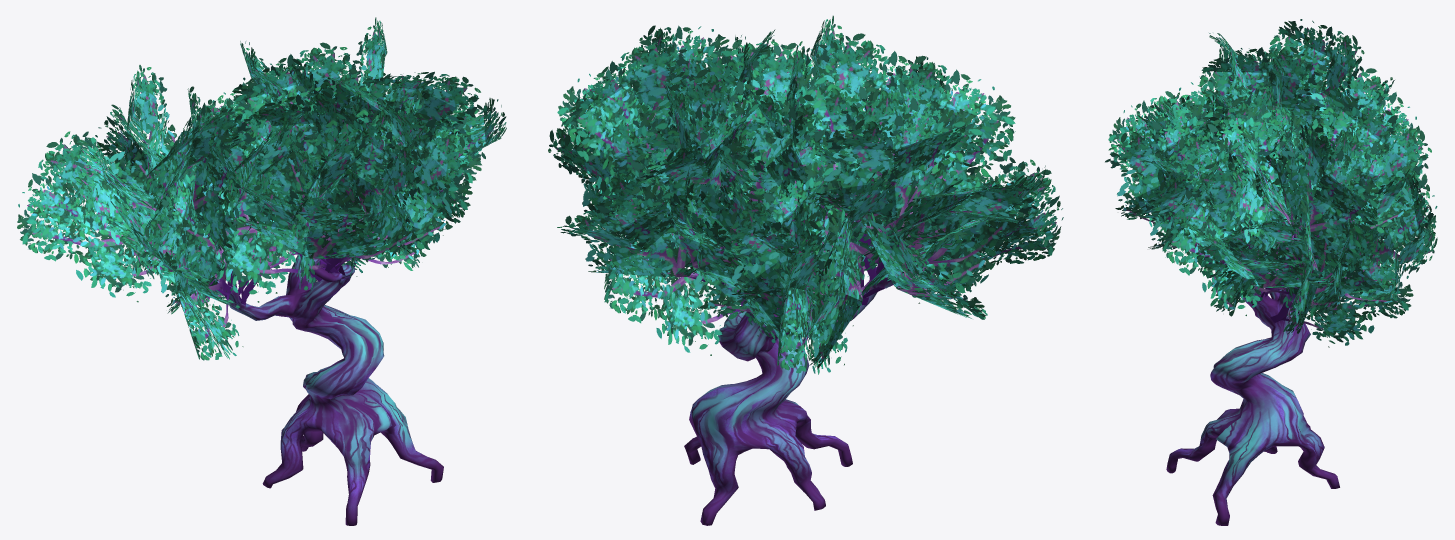
Rendered from Wise_Tree_New_Textured.fbx.
The picture shows the model from 3 angles, left to right: view 1: azimuth 30°, elevation 25°; view 2: azimuth 150°, elevation 25°; view 3: azimuth 270°, elevation 25°; orthographic projection. The views are drawn at different scales.
Visible parts, largest first — view 1: Trunk, Trunk|branch_texture|Dupli|41, Trunk|branch_texture|Dupli|48, Trunk|branch_texture|Dupli|49, Trunk|branch_texture|Dupli|12, Trunk|branch_texture|Dupli|13, Trunk|branch_texture|Dupli|40, Trunk|branch_texture|Dupli|38, Trunk|branch_texture|Dupli|36, Trunk|branch_texture|Dupli|9, Trunk|branch_texture|Dupli|24, Trunk|branch_texture|Dupli|34 (+24 smaller); view 2: Trunk, Trunk|branch_texture|Dupli|31, Trunk|branch_texture|Dupli|15, Trunk|branch_texture|Dupli|3, Trunk|branch_texture|Dupli|34, Trunk|branch_texture|Dupli|40, Trunk|branch_texture|Dupli|8, Trunk|branch_texture|Dupli|, Trunk|branch_texture|Dupli|33, Trunk|branch_texture|Dupli|27, Trunk|branch_texture|Dupli|38, Trunk|branch_texture|Dupli|25 (+31 smaller); view 3: Trunk, Trunk|branch_texture|Dupli|15, Trunk|branch_texture|Dupli|18, Trunk|branch_texture|Dupli|36, Trunk|branch_texture|Dupli|48, Trunk|branch_texture|Dupli|, Trunk|branch_texture|Dupli|23, Trunk|branch_texture|Dupli|19, Trunk|branch_texture|Dupli|31, Trunk|branch_texture|Dupli|3, Trunk|branch_texture|Dupli|24, Trunk|branch_texture|Dupli|7 (+23 smaller).
Boxes of the visible parts, bbox=[...] form: Trunk: bbox=[210, 254, 443, 525]; Trunk|branch_texture|Dupli|41: bbox=[17, 131, 161, 302]; Trunk|branch_texture|Dupli|48: bbox=[300, 111, 423, 272]; Trunk|branch_texture|Dupli|49: bbox=[160, 126, 322, 302]; Trunk|branch_texture|Dupli|12: bbox=[238, 185, 387, 273]; Trunk|branch_texture|Dupli|13: bbox=[325, 99, 472, 272]; Trunk|branch_texture|Dupli|40: bbox=[71, 137, 167, 276]; Trunk|branch_texture|Dupli|38: bbox=[170, 219, 243, 360]; Trunk|branch_texture|Dupli|36: bbox=[174, 86, 241, 266]; Trunk|branch_texture|Dupli|9: bbox=[138, 161, 242, 314]; Trunk|branch_texture|Dupli|24: bbox=[340, 71, 482, 162]; Trunk|branch_texture|Dupli|34: bbox=[143, 108, 250, 239]; Trunk: bbox=[684, 275, 894, 525]; Trunk|branch_texture|Dupli|31: bbox=[815, 105, 965, 247]; Trunk|branch_texture|Dupli|15: bbox=[564, 38, 725, 214]; Trunk|branch_texture|Dupli|3: bbox=[557, 184, 737, 288]; Trunk|branch_texture|Dupli|34: bbox=[855, 55, 1015, 249]; Trunk|branch_texture|Dupli|40: bbox=[854, 185, 1037, 281]; Trunk|branch_texture|Dupli|8: bbox=[714, 162, 868, 303]; Trunk|branch_texture|Dupli|: bbox=[604, 177, 748, 355]; Trunk|branch_texture|Dupli|33: bbox=[777, 217, 868, 374]; Trunk|branch_texture|Dupli|27: bbox=[557, 110, 715, 271]; Trunk|branch_texture|Dupli|38: bbox=[869, 157, 1063, 303]; Trunk|branch_texture|Dupli|25: bbox=[731, 83, 840, 233]; Trunk: bbox=[1166, 256, 1339, 525]; Trunk|branch_texture|Dupli|15: bbox=[1273, 121, 1379, 279]; Trunk|branch_texture|Dupli|18: bbox=[1295, 96, 1431, 233]; Trunk|branch_texture|Dupli|36: bbox=[1198, 47, 1329, 140]; Trunk|branch_texture|Dupli|48: bbox=[1105, 104, 1221, 225]; Trunk|branch_texture|Dupli|: bbox=[1270, 218, 1413, 347]; Trunk|branch_texture|Dupli|23: bbox=[1162, 158, 1293, 315]; Trunk|branch_texture|Dupli|19: bbox=[1169, 107, 1303, 271]; Trunk|branch_texture|Dupli|31: bbox=[1261, 19, 1364, 143]; Trunk|branch_texture|Dupli|3: bbox=[1343, 175, 1437, 308]; Trunk|branch_texture|Dupli|24: bbox=[1226, 130, 1297, 279]; Trunk|branch_texture|Dupli|7: bbox=[1196, 218, 1337, 303].
Size of the model in its own units: 17262 by 15988 by 12360.
Materials: 2 (2 with a texture image).
